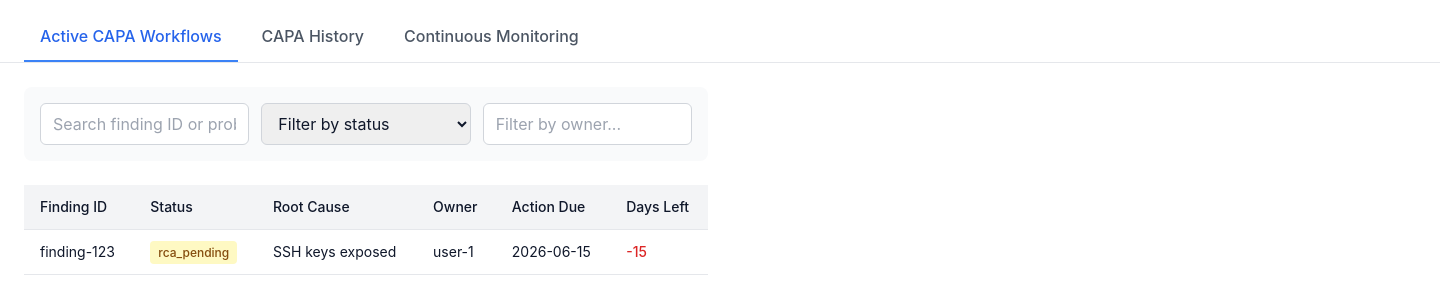
Scenario: CapaAndMonitoringTab › Tab Switching › should switch between Active and History tabs
Expected: the text "finding-123" is shown, [24,230,134,274]
// Switch to History
Click the button "CAPA History". click: (313, 37)
box: [246,12,380,62]
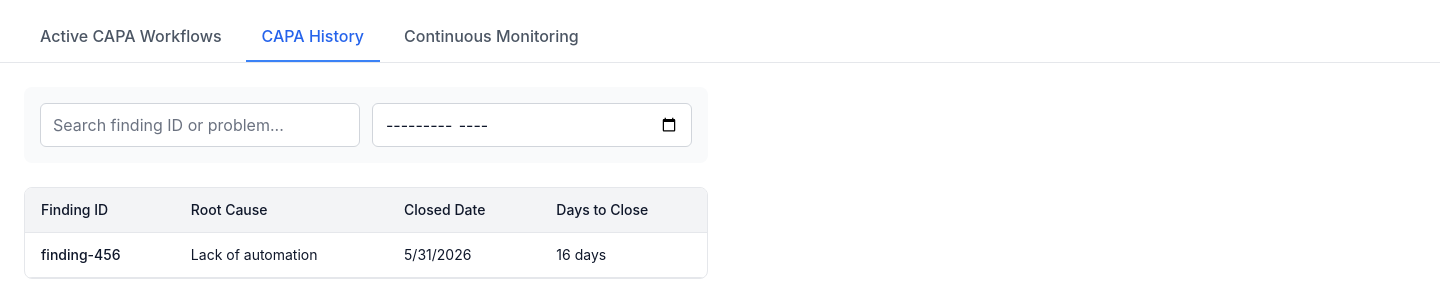
Now the text "finding-456" is shown, box [25,232,175,278]
Now the text "finding-123" is gone
// Switch back to Active
Click the button "Active CAPA Workflows". click: (131, 37)
box: [24,12,238,62]
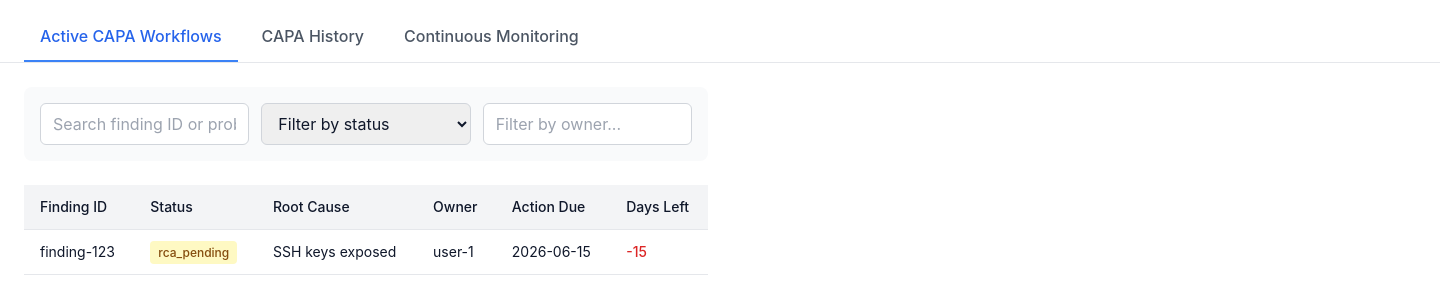
Now the text "finding-123" is shown, box [24,230,134,274]
Now the text "finding-456" is gone
